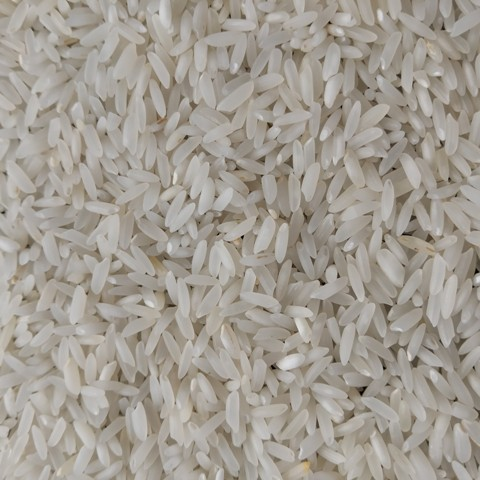gh hmt kalam_7: (105, 27, 442, 419)
